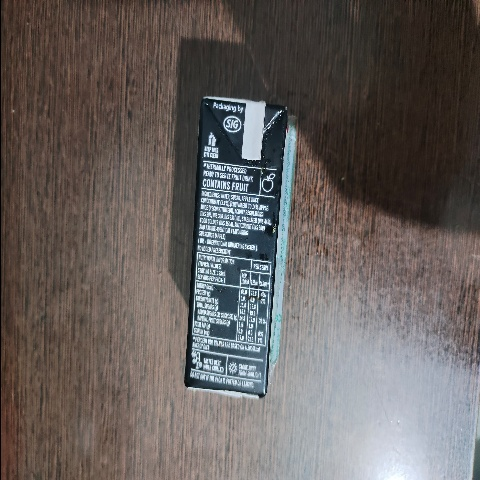appy: (162, 86, 302, 402)
